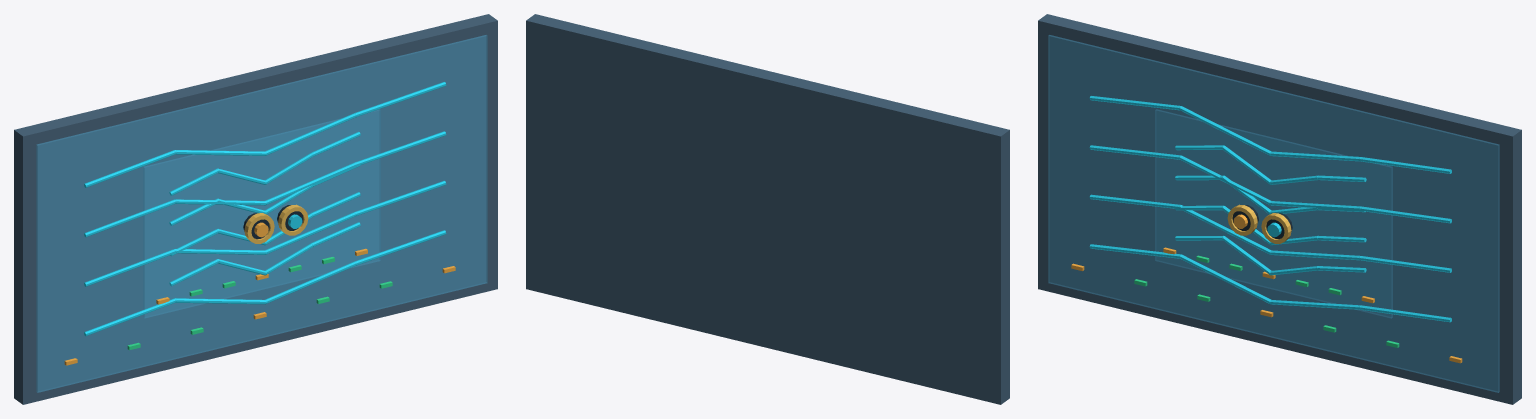
Rendered from 10_L81_FaultEventTimelineOscilloscope.fbx.
3 views of the same model, side by side, from view 1: azimuth 30°, elevation 25°; view 2: azimuth 150°, elevation 25°; view 3: azimuth 330°, elevation 25° (orthographic).
Parts seen in each view (by area): view 1: FaultEventTimelineOscilloscope, FaultEventTimelineOscilloscope_Part_0038, FaultEventTimelineOscilloscope_Part_0037; view 2: FaultEventTimelineOscilloscope, FaultEventTimelineOscilloscope_Part_0037; view 3: FaultEventTimelineOscilloscope, FaultEventTimelineOscilloscope_Part_0037, FaultEventTimelineOscilloscope_Part_0038.
Part boxes in pixels (x1,y1,x2,y2): FaultEventTimelineOscilloscope: (14, 14, 497, 404); FaultEventTimelineOscilloscope_Part_0038: (143, 109, 380, 318); FaultEventTimelineOscilloscope_Part_0037: (130, 95, 390, 326); FaultEventTimelineOscilloscope: (526, 14, 1009, 404); FaultEventTimelineOscilloscope_Part_0037: (633, 95, 893, 330); FaultEventTimelineOscilloscope: (1038, 14, 1521, 404); FaultEventTimelineOscilloscope_Part_0037: (1145, 95, 1405, 330); FaultEventTimelineOscilloscope_Part_0038: (1155, 109, 1392, 318).
Bounding box in the file's own units: 211 × 114 × 21.65.
